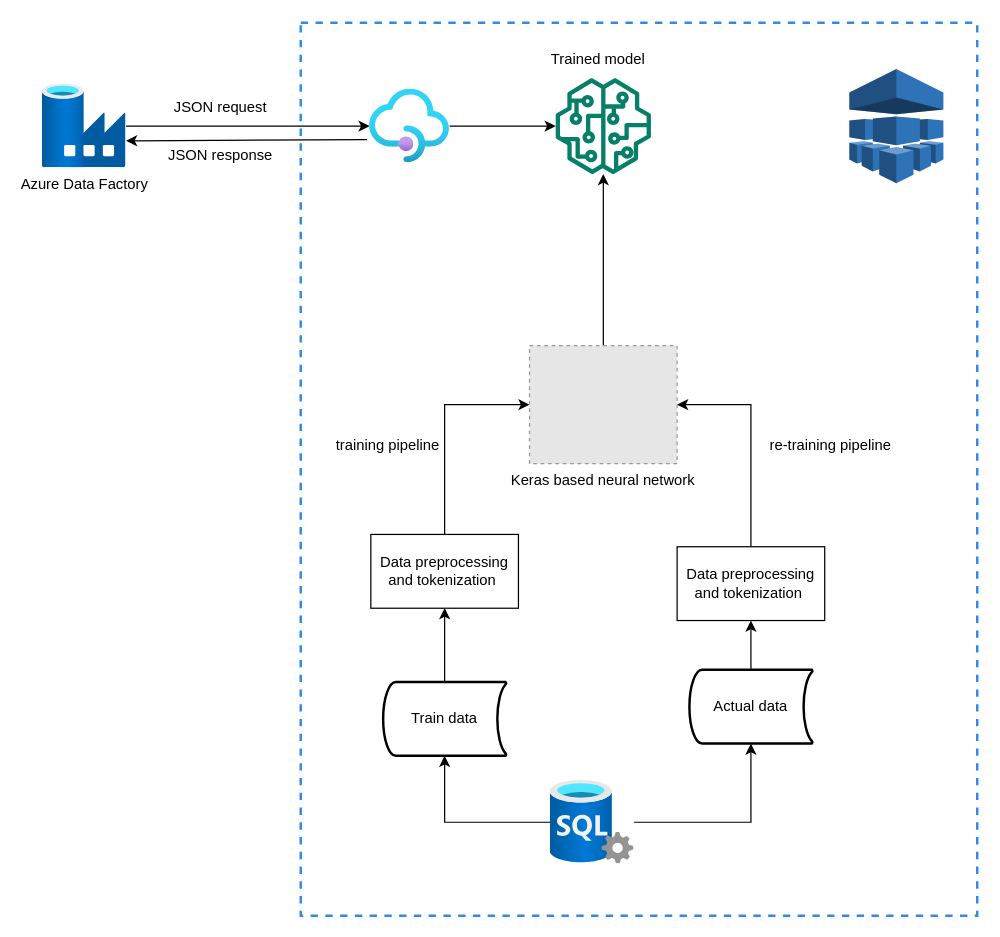
The diagram is 1000 pixels wide and 937 high, and some of its shapes have lost their labels. Grey dashed boxes stand in for pictures. Here are the shapes that lost their labels. From the top down, the centre of each, then its label:
At (409,125): "REST API Endpoint".
At (895,125): "Azure ML".
At (591,821): "SQL Server".
